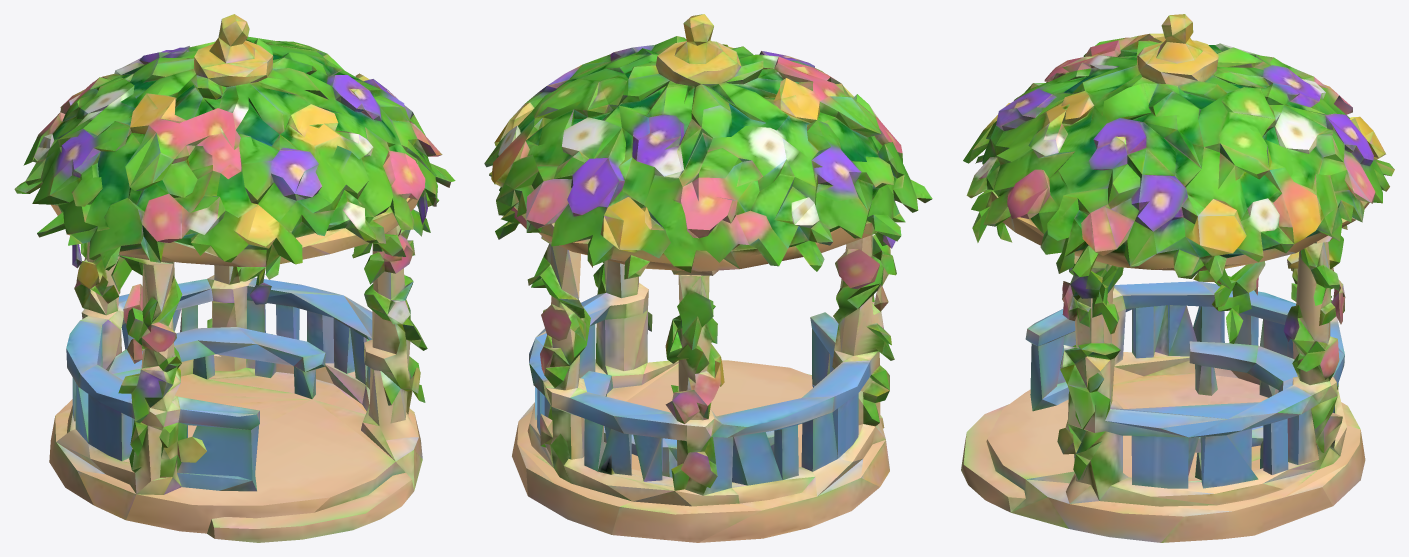
File: gazebo.glb
3 renders of one model, left to right at view 1: azimuth 30°, elevation 25°; view 2: azimuth 150°, elevation 25°; view 3: azimuth 270°, elevation 25°, orthographic. The views are drawn at different scales.
Size of the model in its own units: 1.72 by 1.89 by 1.66.
Materials: 1 (1 with a texture image).
